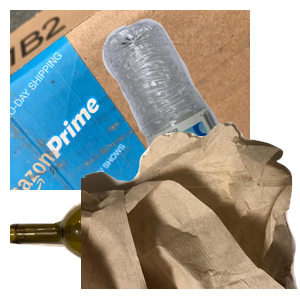cardboard: (10, 10, 250, 190)
glass: (10, 189, 250, 300)
plastic: (100, 16, 300, 196)
trash: (81, 120, 300, 300)
